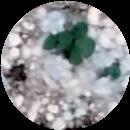Basil: (67, 37, 99, 66), (36, 28, 72, 52), (64, 22, 91, 45)
